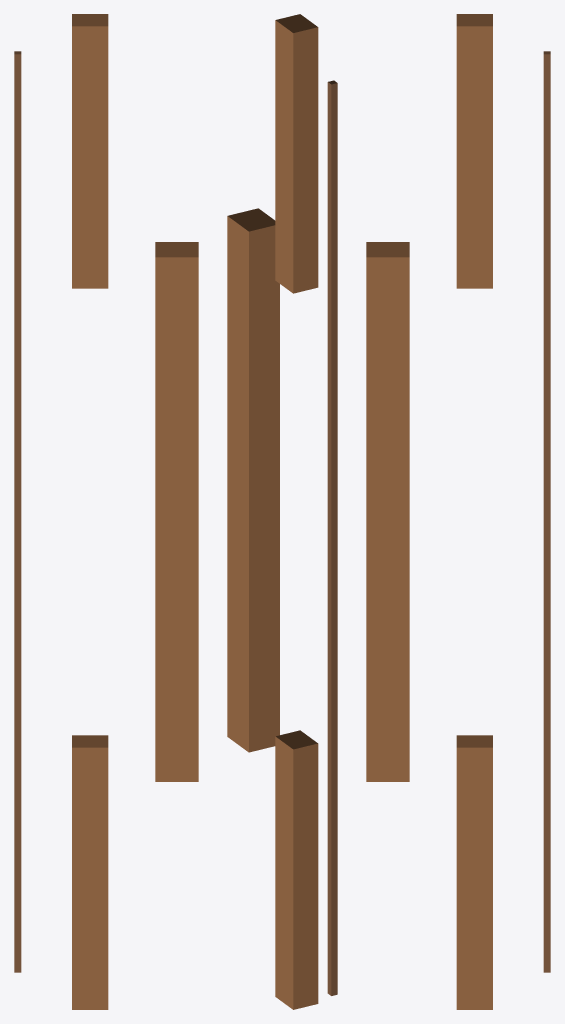
Rendered from arco.obj.
3 renders of one model, left to right at view 1: azimuth 90°, elevation 25°; view 2: azimuth 210°, elevation 25°; view 3: azimuth 270°, elevation 25°, orthographic.
Parts seen in each view (by area): view 1: corpo, haste_sup, haste_inf, corda; view 2: corpo, haste_sup, haste_inf, corda; view 3: corpo, haste_sup, haste_inf, corda.
Part boxes in pixels (bbox=[...]): corpo: bbox=[155, 242, 198, 781]; haste_sup: bbox=[72, 14, 108, 288]; haste_inf: bbox=[72, 735, 108, 1009]; corda: bbox=[14, 51, 21, 972]; corpo: bbox=[227, 208, 279, 752]; haste_sup: bbox=[275, 14, 318, 293]; haste_inf: bbox=[275, 730, 318, 1009]; corda: bbox=[327, 80, 337, 995]; corpo: bbox=[366, 242, 409, 781]; haste_sup: bbox=[456, 14, 492, 288]; haste_inf: bbox=[456, 735, 492, 1009]; corda: bbox=[543, 51, 550, 972].
Size of the model in its own units: 0.05 by 1.5 by 0.255.
